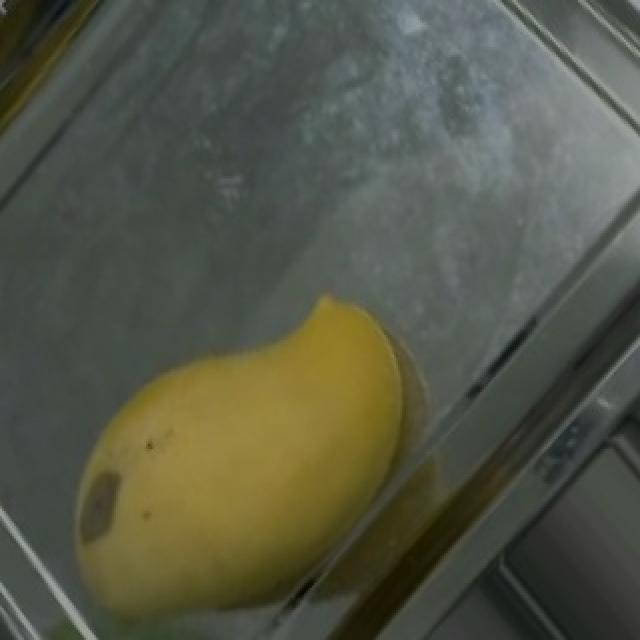fruit: (46, 221, 474, 640)
